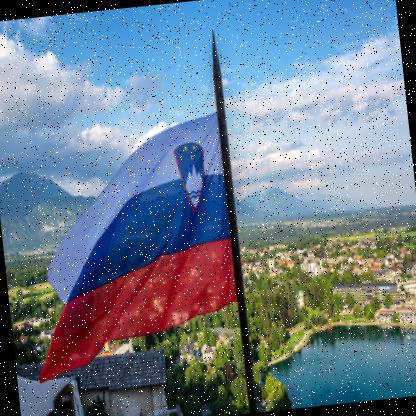si: (12, 109, 245, 385)
